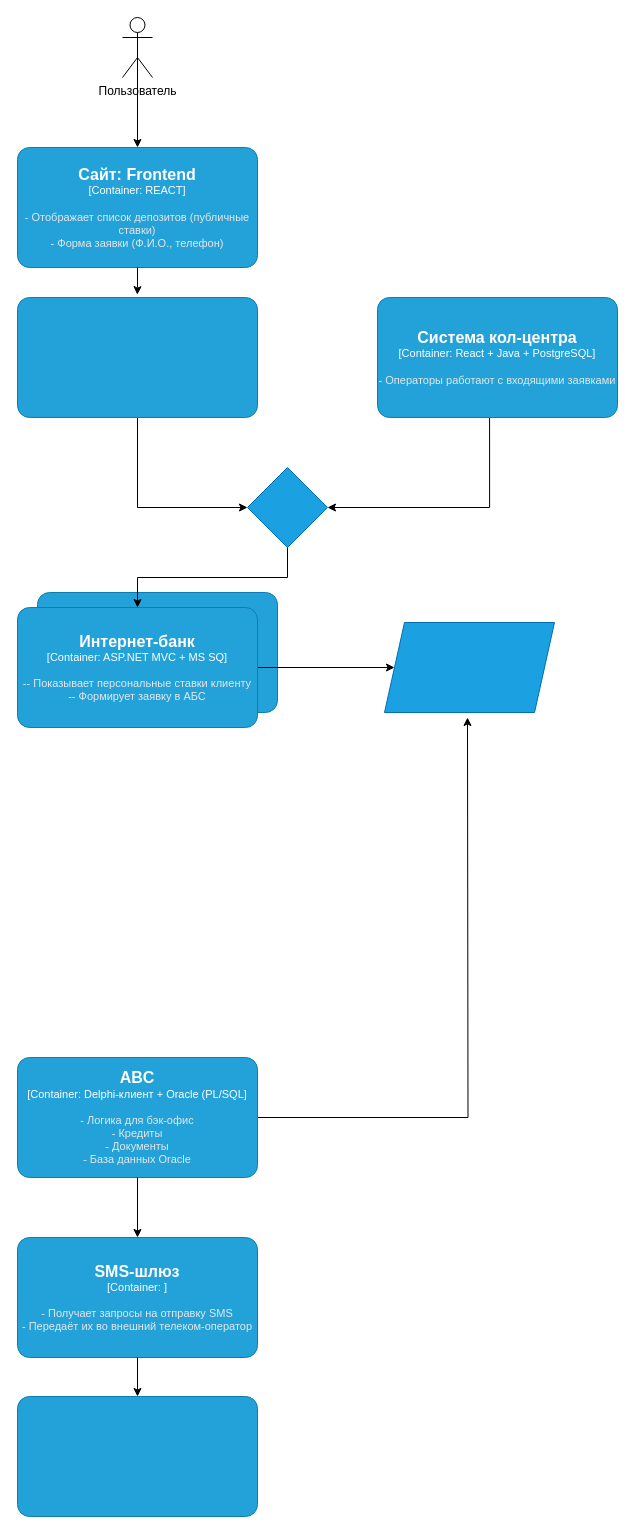
Image size: 635x1534. Some labels were removed from this diagram. Here are the shapes that lost their labels. From the top down, the centre of each, then its label:
At point 137,357: "Сайт: Backend [Container: PHP] - Принимает и валидирует заявку".
At point 287,507: "API Gateway".
At point 469,667: "Kafka Используем EDD(Event-Driven Design) Хранит событие о новых ставках".
At point 137,1456: "Телеком-оператор [Container: ]".
